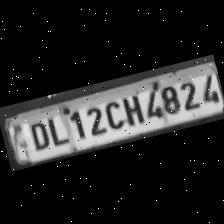1: (62, 107, 88, 144)
2: (174, 75, 202, 113), (80, 100, 106, 138)
4: (193, 69, 221, 108), (138, 83, 164, 122)
8: (155, 80, 182, 116)
C: (100, 96, 126, 132)
D: (23, 118, 52, 152)
H: (117, 89, 146, 127)
L: (43, 112, 70, 148)
